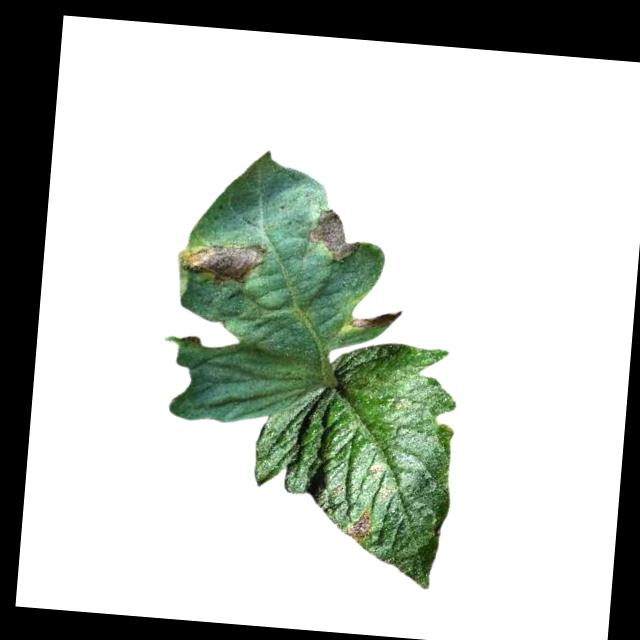Early_blight: (177, 234, 268, 292), (305, 206, 363, 268), (349, 306, 402, 334), (343, 508, 374, 543)
